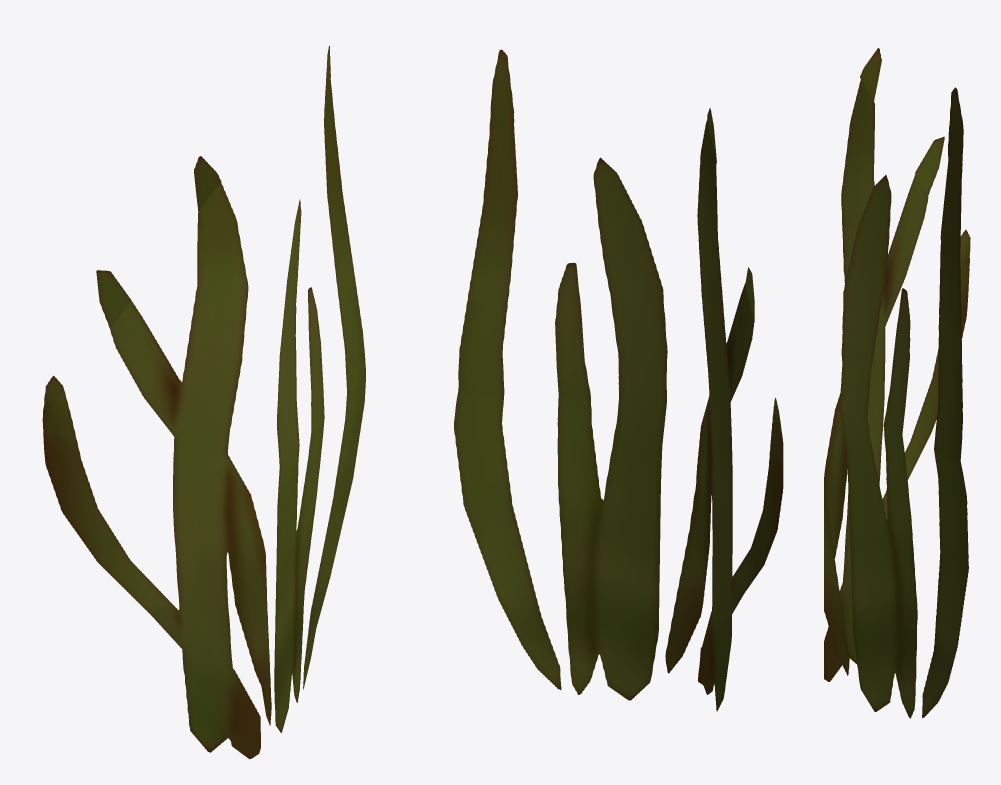
The model's file is SM_somegrass.fbx.
3 renders of one model, left to right at view 1: azimuth 30°, elevation 25°; view 2: azimuth 150°, elevation 25°; view 3: azimuth 270°, elevation 25°, orthographic. The views are drawn at different scales.
Parts seen in each view (by area): view 1: grass.001; view 2: grass.001; view 3: grass.001.
Part boxes in pixels (bbox=[...]): grass.001: bbox=[42, 45, 365, 759]; grass.001: bbox=[454, 49, 783, 711]; grass.001: bbox=[824, 48, 970, 718].
Size of the model in its own units: 25.19 by 42.99 by 9.15.
1 material, 1 textured.
